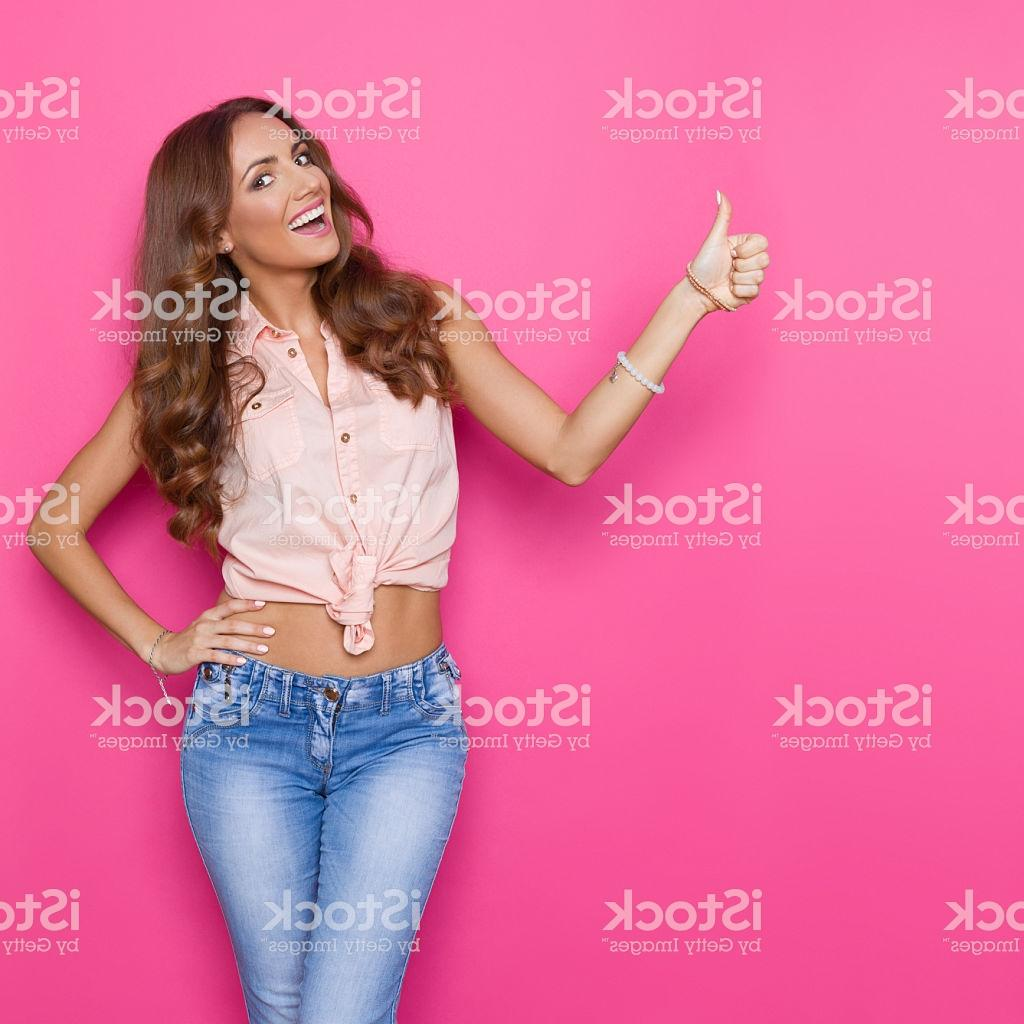thumbsup: (690, 188, 770, 314)
